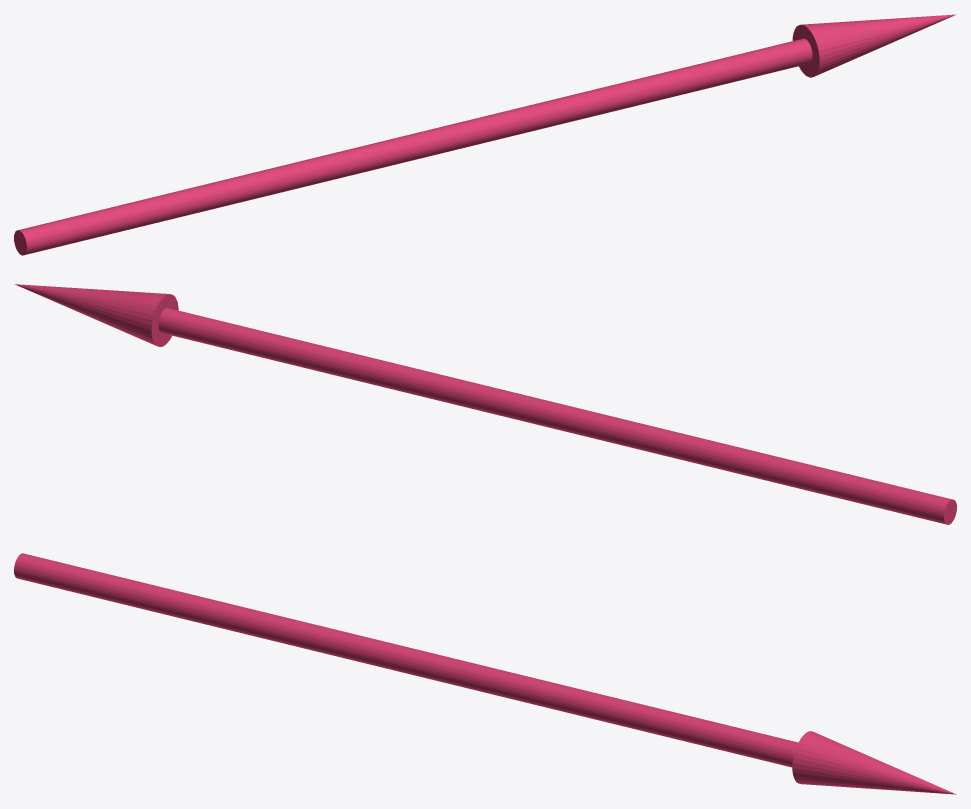
The model's file is Axis 0 B_SF6.gltf.
3 renders of one model, top to bottom at view 1: azimuth 30°, elevation 25°; view 2: azimuth 150°, elevation 25°; view 3: azimuth 330°, elevation 25°, orthographic.
Visible parts, largest first — view 1: Eje_C4b_Eje_Cono.002; view 2: Eje_C4b_Eje_Cono.002; view 3: Eje_C4b_Eje_Cono.002.
Part boxes in pixels (left/top/right/bottom): Eje_C4b_Eje_Cono.002: left=14, top=14, right=955, bottom=255; Eje_C4b_Eje_Cono.002: left=14, top=284, right=956, bottom=524; Eje_C4b_Eje_Cono.002: left=14, top=553, right=956, bottom=794.
Size of the model in its own units: 3 by 0.1511 by 0.1511.
